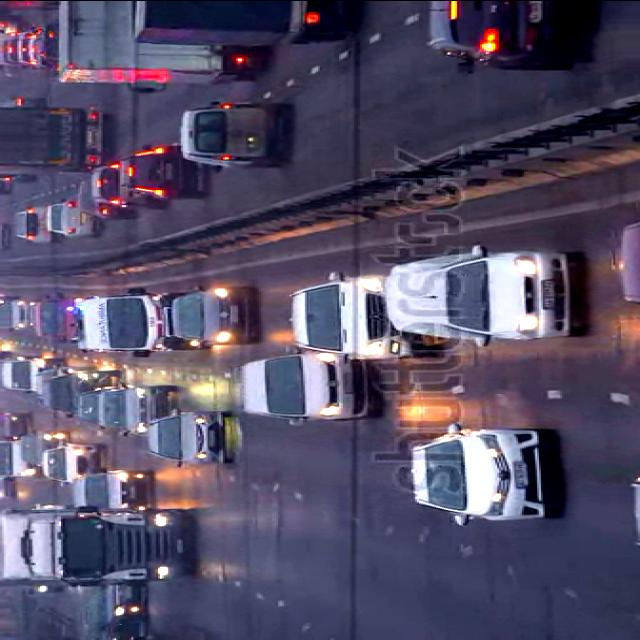ambulance: (72, 285, 208, 353)
